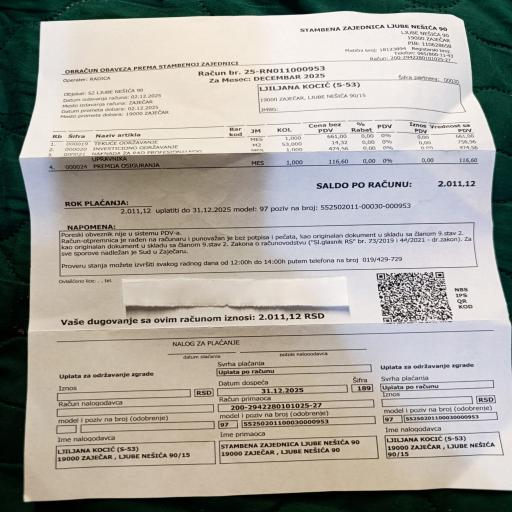stambena_zajednica: (61, 122, 482, 171)
stambena_zajednica_iznos: (58, 309, 338, 336)
